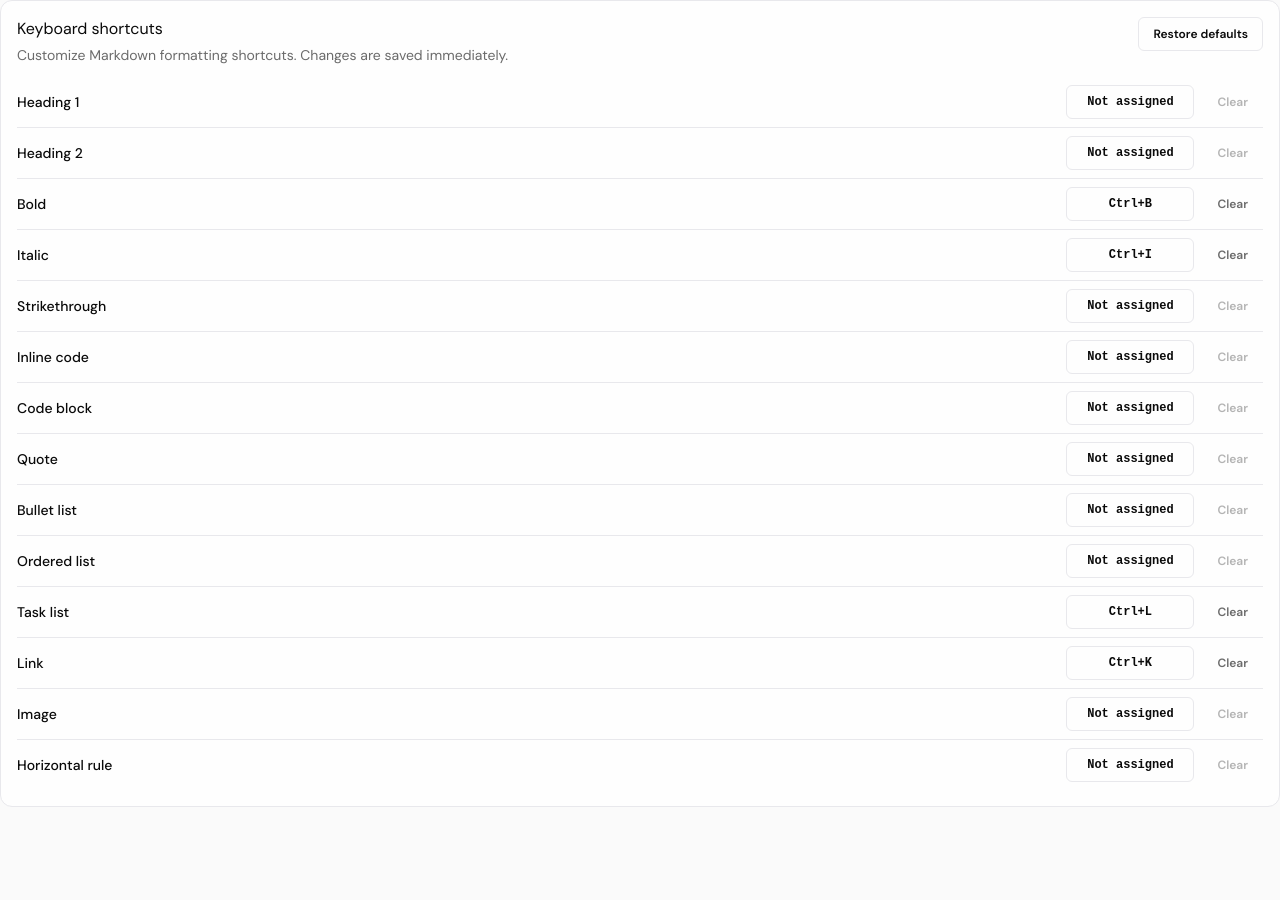
it: EditorShortcutSettings › keeps recording when the WebView moves focus away from the button
Click the button with aria-label "Change Heading 1 shortcut" at coordinates (1130, 102), box [1066, 85, 1194, 119]
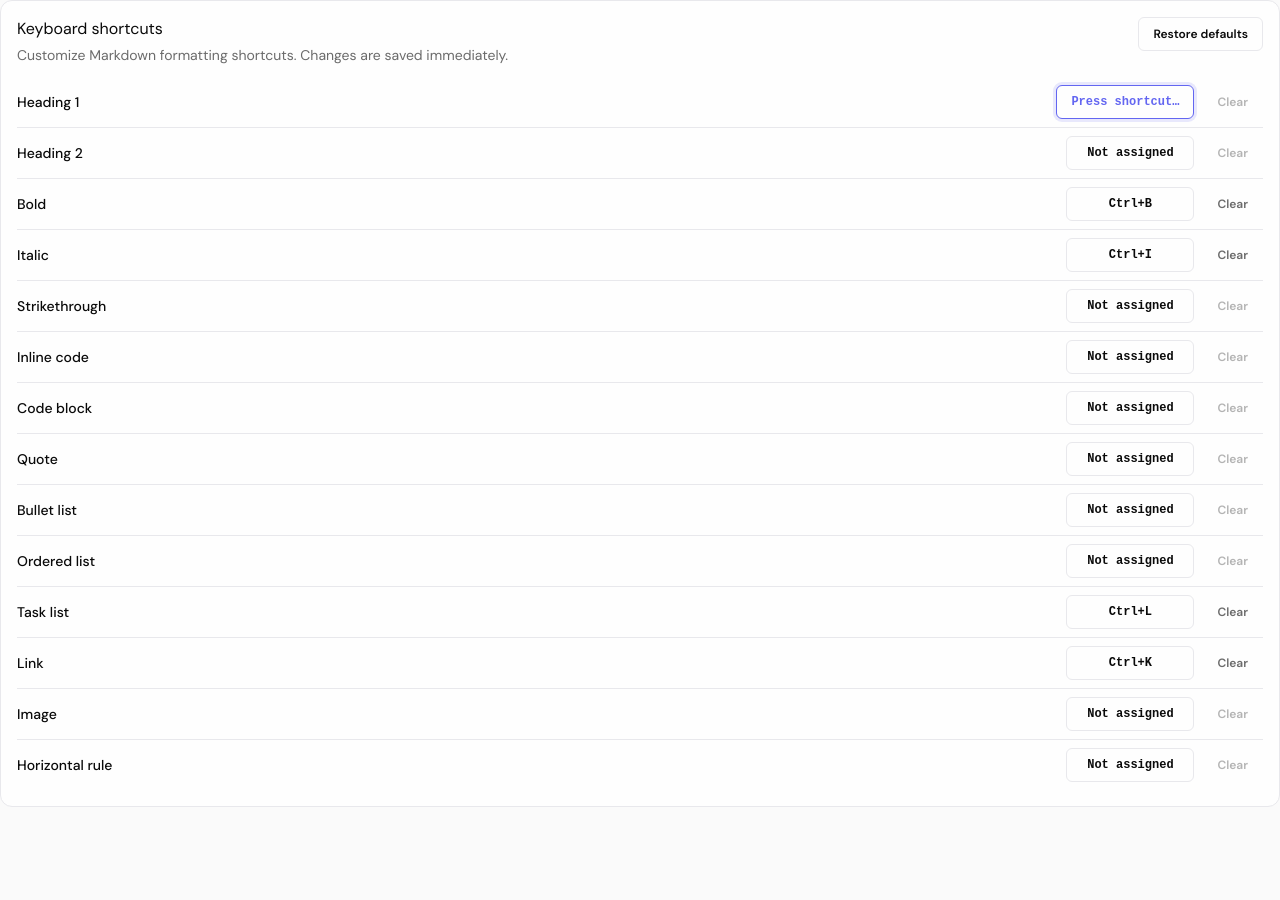
Press q
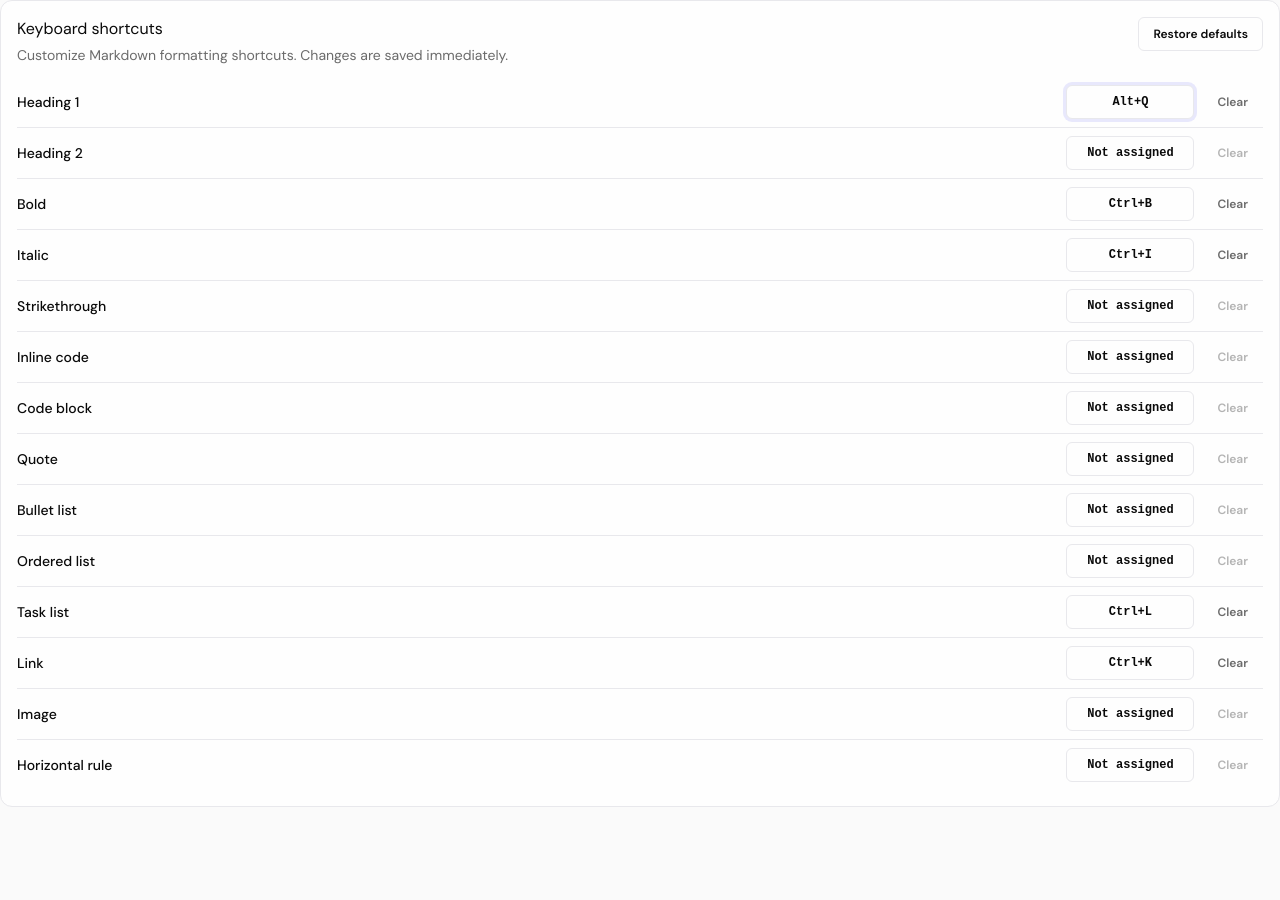
Expected: the button with aria-label "Change Heading 1 shortcut" reads "Alt+Q", [1066, 85, 1194, 119]
